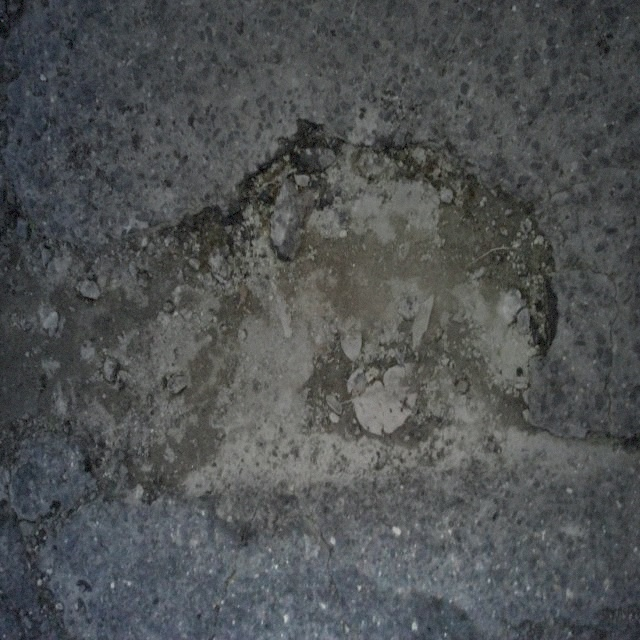pothole: (53, 117, 560, 554)
